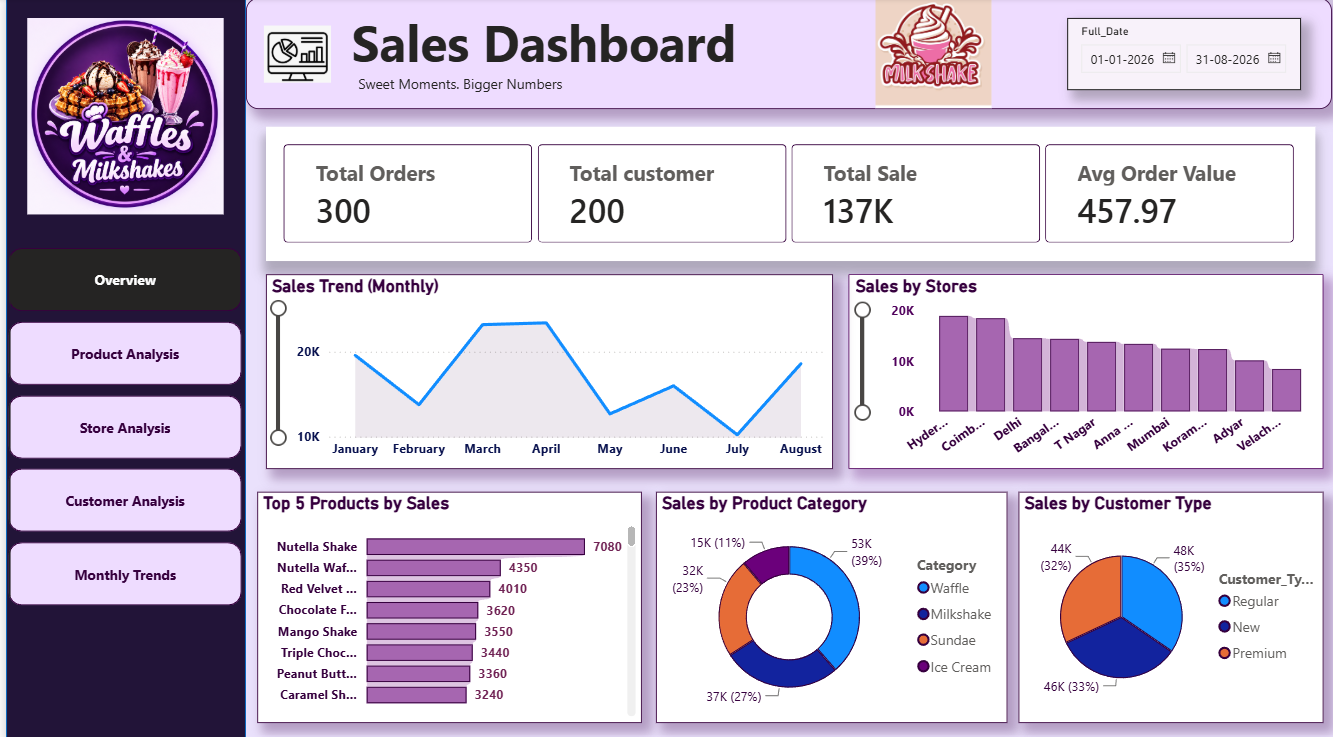

What the dashboard file says about the page in this screenshot:
{"tool":"powerbi","page":{"name":"Overview","canvas":[1280,720],"ordinal":0},"visuals":[{"type":"barChart","title":"Top 5 Products by Sales","fields":{"Y":["Sum(FACT_SALES.Total_Amount)"],"Category":["DIM_PRODUCT.Product_Name"]},"box":[242.5,476.5,371.6,223.2],"z":0},{"type":"donutChart","title":"Sales by Product Category","fields":{"Category":["DIM_PRODUCT.Category"],"Y":["Sum(FACT_SALES.Total_Amount)"]},"box":[627.3,476.5,339,223.2],"z":1000},{"type":"shape","box":[0,0,231.6,720.2],"z":2000},{"type":"textbox","box":[232.1,0,1047.9,107.5],"z":3000},{"type":"cardVisual","title":"Total Orders","fields":{"Data":["DIM_STORE.Total Sales","DIM_CUSTOMER.Total customer","FACT_SALES.Total Sale","FACT_SALES.Avg Order Value"]},"box":[250.4,124.6,1012.7,129.5],"z":4000},{"type":"image","box":[18.1,19.3,194.2,189.4],"z":5000},{"type":"columnChart","title":"Sales by Stores","fields":{"Category":["DIM_STORE.Store_Name"],"Y":["Sum(FACT_SALES.Total_Amount)"]},"box":[813.1,266.6,458.4,188.2],"z":6000},{"type":"pieChart","title":"Sales by Customer Type","fields":{"Category":["DIM_CUSTOMER.Customer_Type"],"Y":["Sum(FACT_SALES.Total_Amount)"]},"box":[977.2,476.5,294.4,223.2],"z":7000},{"type":"lineChart","title":"Sales Trend (Monthly)","fields":{"Y":["Sum(FACT_SALES.Total_Amount)"],"Category":["DIM_DATE.Month_Name"]},"box":[250.4,266.3,547.3,188.1],"z":8000},{"type":"slicer","fields":{"Values":["DIM_DATE.Full_Date"]},"box":[1023.7,19.5,226,69.6],"z":9000},{"type":"pageNavigator","box":[2.4,241.3,225.6,347.5],"z":10000},{"type":"image","box":[242.5,26.5,77.2,55.5],"z":11000},{"type":"image","box":[824,0,142.4,106.2],"z":12000}]}

Visuals, with their boxes in screenshot pixels (x1, y1, x2, y2), scaled from the page's 1280x720 canvas onto the 1333x737 screenshot:
"Top 5 Products by Sales" barChart: [left=253, top=488, right=640, bottom=716]
"Sales by Product Category" donutChart: [left=653, top=488, right=1006, bottom=716]
shape: [left=0, top=0, right=241, bottom=736]
textbox: [left=242, top=0, right=1332, bottom=110]
"Total Orders" cardVisual: [left=261, top=128, right=1315, bottom=260]
image: [left=19, top=20, right=221, bottom=214]
"Sales by Stores" columnChart: [left=847, top=273, right=1324, bottom=466]
"Sales by Customer Type" pieChart: [left=1018, top=488, right=1324, bottom=716]
"Sales Trend (Monthly)" lineChart: [left=261, top=273, right=831, bottom=465]
slicer - DIM_DATE.Full_Date: [left=1066, top=20, right=1301, bottom=91]
pageNavigator: [left=2, top=247, right=237, bottom=603]
image: [left=253, top=27, right=333, bottom=84]
image: [left=858, top=0, right=1006, bottom=109]
